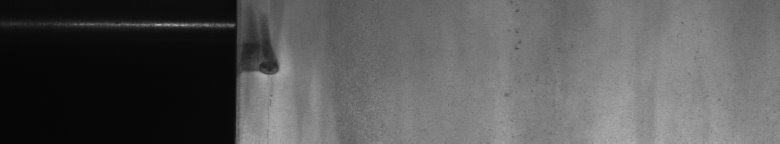hb: (248, 16, 289, 106)
